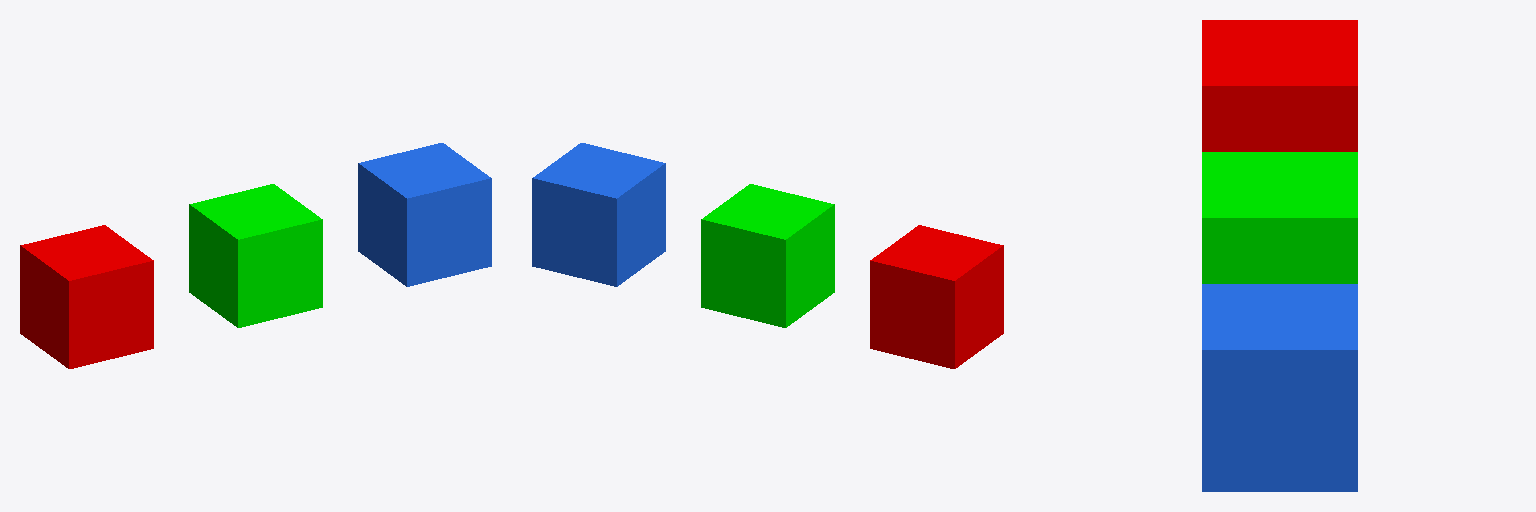
URDF robot description (material_color):
<?xml version="1.0"?>
<robot name="material_color">
  <material name="red">
    <color rgba="1 0 0 1"/>
  </material>
  <material name="opacity_half">
    <color rgba="0.2 0.5 1 0.5"/>
  </material>

  <link name="link_box_red">
    <visual>
      <geometry>
        <box size="0.5 0.5 0.5"/>
      </geometry>
      <material name="red"/>
    </visual>
  </link>
  <link name="link_box_green">
    <visual>
      <geometry>
        <box size="0.5 0.5 0.5"/>
      </geometry>
      <!-- Directly specify unnamed materials. -->
      <material>
        <color rgba="0 1 0 1"/>
      </material>
    </visual>
  </link>
  <link name="link_box_opacity_half">
    <visual>
      <geometry>
        <box size="0.5 0.5 0.5"/>
      </geometry>
      <material name="opacity_half"/>
    </visual>
  </link>

  <joint name="joint_root" type="fixed">
    <origin rpy="0 0 0" xyz="1 0 0"/>
    <parent link="link_box_red"/>
    <child link="link_box_green"/>
  </joint>
  <joint name="joint_box_green_opacity_half" type="fixed">
    <origin rpy="0 0 0" xyz="1 0 0"/>
    <parent link="link_box_green"/>
    <child link="link_box_opacity_half"/>
  </joint>
</robot>

--- Facts derived from the render (not from the file) ---
The picture shows the robot from 3 angles, left to right: view 1: azimuth 30°, elevation 25°; view 2: azimuth 150°, elevation 25°; view 3: azimuth 270°, elevation 25°; orthographic projection.
Robot: material_color — 3 links, 2 joints (2 fixed); root link link_box_red; default pose: all joints at 0.
Links seen in each view (by area): view 1: link_box_red, link_box_opacity_half, link_box_green; view 2: link_box_red, link_box_opacity_half, link_box_green; view 3: link_box_opacity_half, link_box_red, link_box_green.
Link boxes in pixels (<box>): link_box_red: <box>20,225,153,368</box>; link_box_opacity_half: <box>358,143,491,286</box>; link_box_green: <box>189,184,322,327</box>; link_box_red: <box>870,225,1003,368</box>; link_box_opacity_half: <box>532,143,665,286</box>; link_box_green: <box>701,184,834,327</box>; link_box_opacity_half: <box>1202,284,1357,491</box>; link_box_red: <box>1202,20,1357,151</box>; link_box_green: <box>1202,152,1357,283</box>.
Size in the robot's own frame: 2.5 by 0.5 by 0.5 metres.
Geometry: primitives only (box / cylinder / sphere), no mesh files.